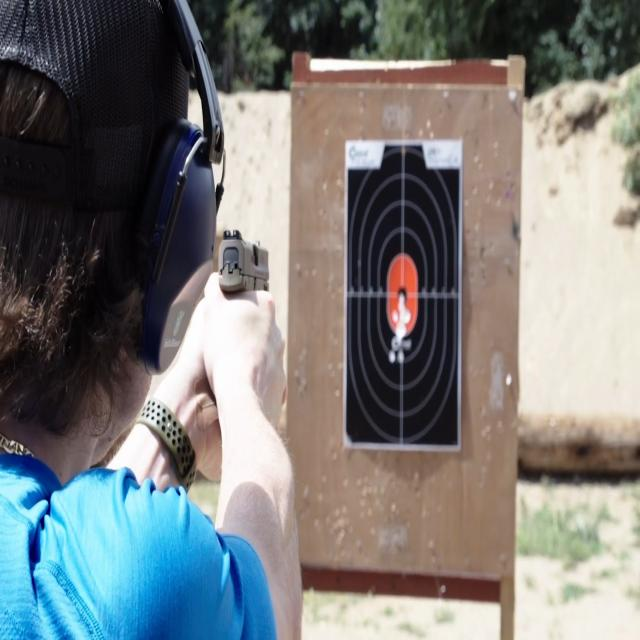Gun_Holder: (202, 221, 292, 382)
Person: (2, 0, 303, 640)
